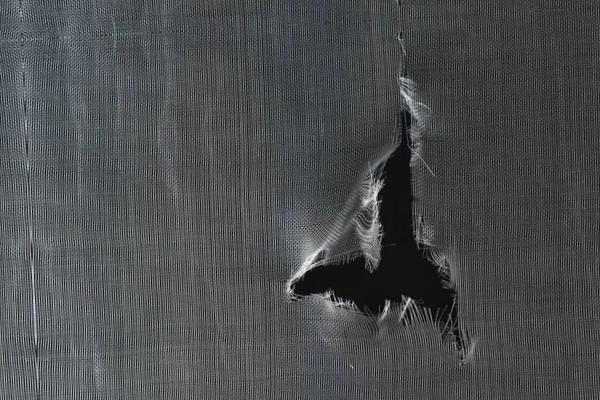hole: (282, 68, 481, 363)
